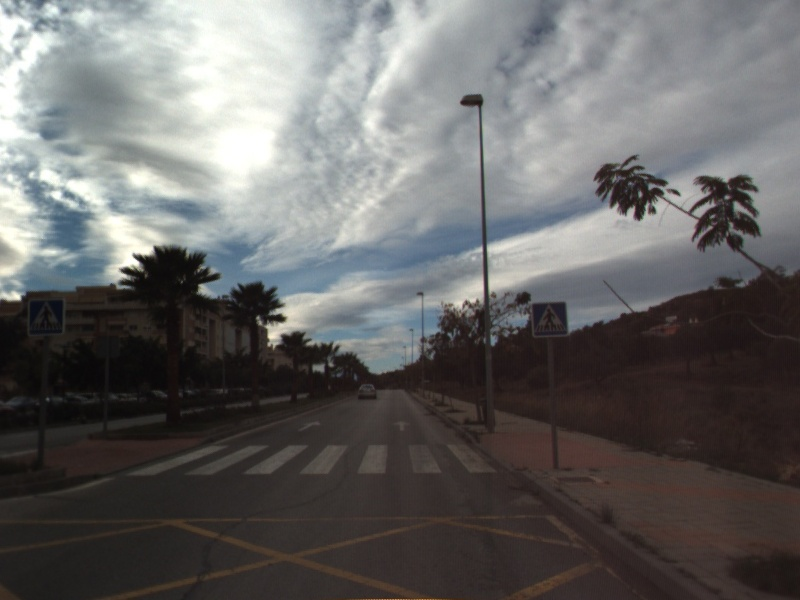STRAIGHT: (296, 419, 323, 433), (391, 418, 413, 433)
